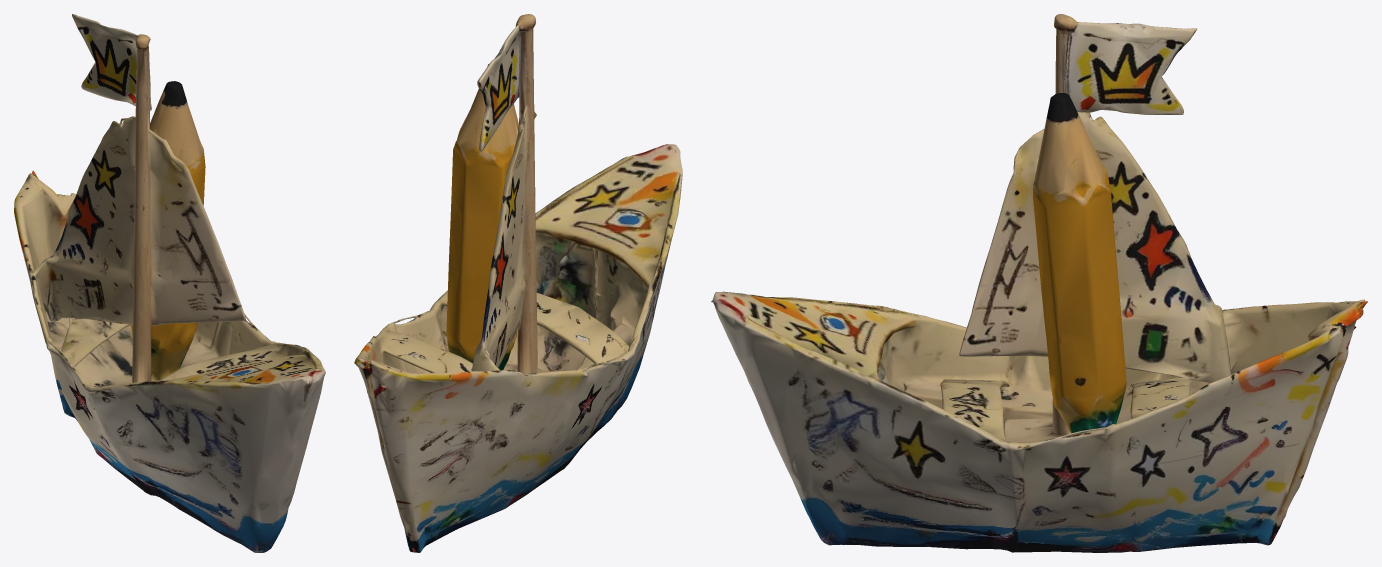
File: paper_boat.glb
3 renders of one model, left to right at view 1: azimuth 30°, elevation 25°; view 2: azimuth 150°, elevation 25°; view 3: azimuth 270°, elevation 25°, orthographic. The views are drawn at different scales.
Parts seen in each view (by area): view 1: tripo_node_3697663a-3919-4c9f-8b67-4fd914da2076; view 2: tripo_node_3697663a-3919-4c9f-8b67-4fd914da2076; view 3: tripo_node_3697663a-3919-4c9f-8b67-4fd914da2076.
Part boxes in pixels (bbox=[...]): tripo_node_3697663a-3919-4c9f-8b67-4fd914da2076: bbox=[14, 14, 325, 552]; tripo_node_3697663a-3919-4c9f-8b67-4fd914da2076: bbox=[354, 14, 682, 552]; tripo_node_3697663a-3919-4c9f-8b67-4fd914da2076: bbox=[711, 14, 1367, 552].
Size of the model in its own units: 2.55 by 5.75 by 6.6.
Materials: 1 (1 with a texture image).
